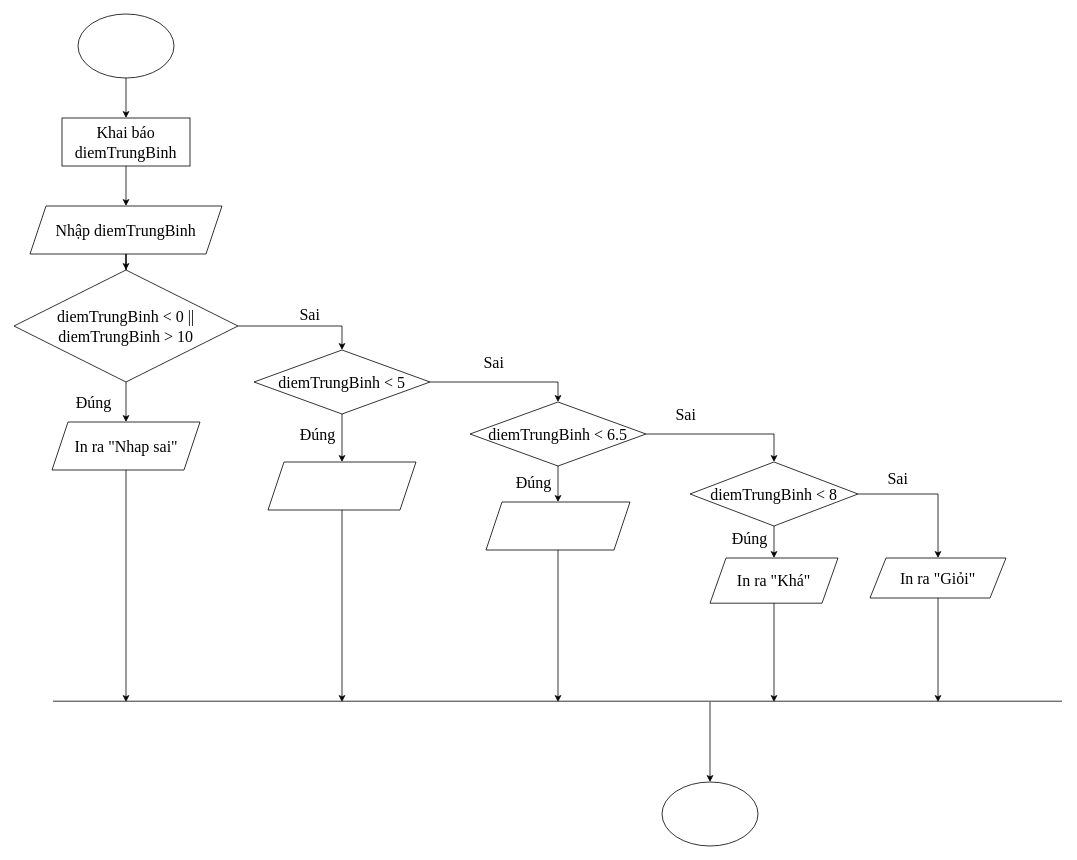
This 1077x860 diagram has some shape labels left out. The shapes that lost their labels are listed below. From the top down, each one's centre as x and y in pixels, then its label:
[125,45]: Bắt đầu
[341,485]: In ra "Yeu"
[557,525]: In ra "Trung bình"
[709,813]: Kết thúc
